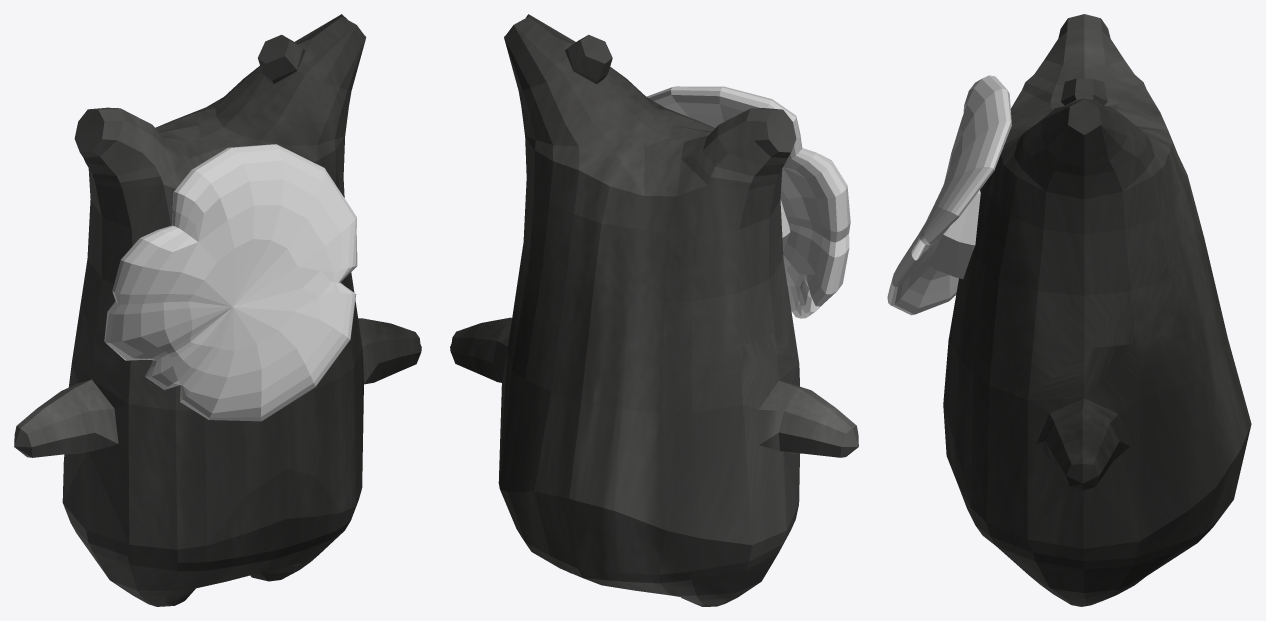
The model's file is frame_0037.obj.
3 renders of one model, left to right at view 1: azimuth 30°, elevation 25°; view 2: azimuth 150°, elevation 25°; view 3: azimuth 270°, elevation 25°, orthographic.
Visible parts, largest first — view 1: korok, leaf; view 2: korok, leaf; view 3: korok, leaf, nose.
Part boxes in pixels (x1=…): korok: x1=14, y1=14, x2=421, y2=606; leaf: x1=104, y1=144, x2=357, y2=421; korok: x1=450, y1=14, x2=858, y2=606; leaf: x1=646, y1=86, x2=850, y2=318; korok: x1=943, y1=14, x2=1251, y2=606; leaf: x1=887, y1=75, x2=1011, y2=315; nose: x1=928, y1=190, x2=980, y2=278.
Bounding box in the file's own units: 1.77 × 2.25 × 1.38.
